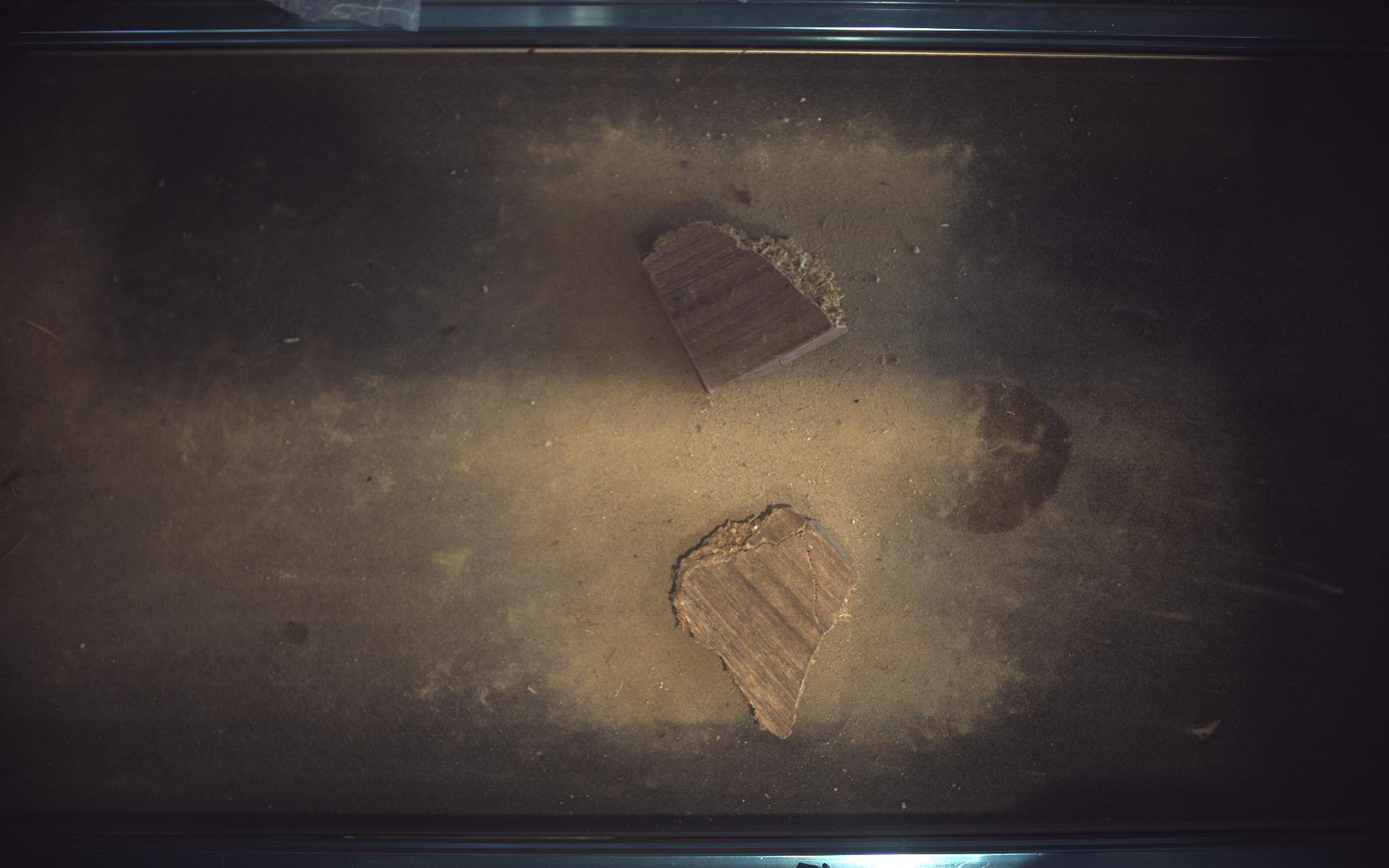wood: (672, 506, 859, 740), (645, 221, 848, 393)
